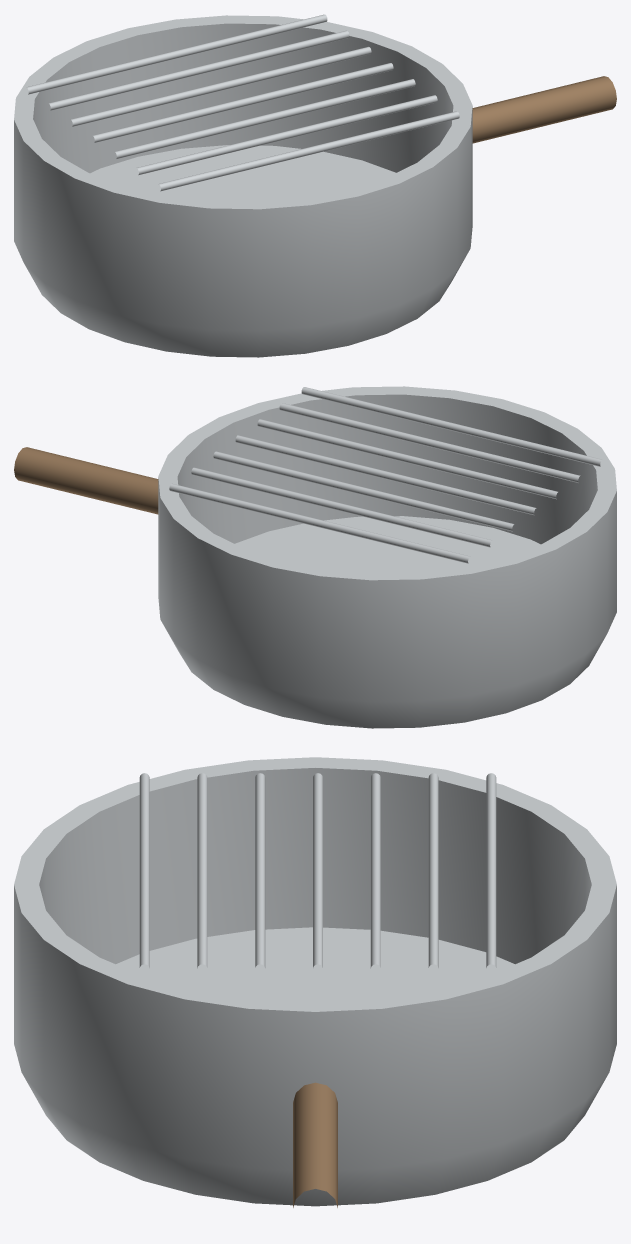
The model's file is chocolate-making-and-confectionery-cocoa-dusting-sieve-0c5747ab__39167.glb.
3 renders of one model, top to bottom at view 1: azimuth 30°, elevation 25°; view 2: azimuth 150°, elevation 25°; view 3: azimuth 270°, elevation 25°, orthographic. The views are drawn at different scales.
Visible parts, largest first — view 1: cocoa-dusting-sieve; view 2: cocoa-dusting-sieve; view 3: cocoa-dusting-sieve.
Part boxes in pixels (x1=…): cocoa-dusting-sieve: x1=14, y1=14, x2=616, y2=357; cocoa-dusting-sieve: x1=14, y1=386, x2=616, y2=728; cocoa-dusting-sieve: x1=14, y1=757, x2=616, y2=1207.
Bounding box in the file's own units: 0.34 × 0.097 × 0.24.
